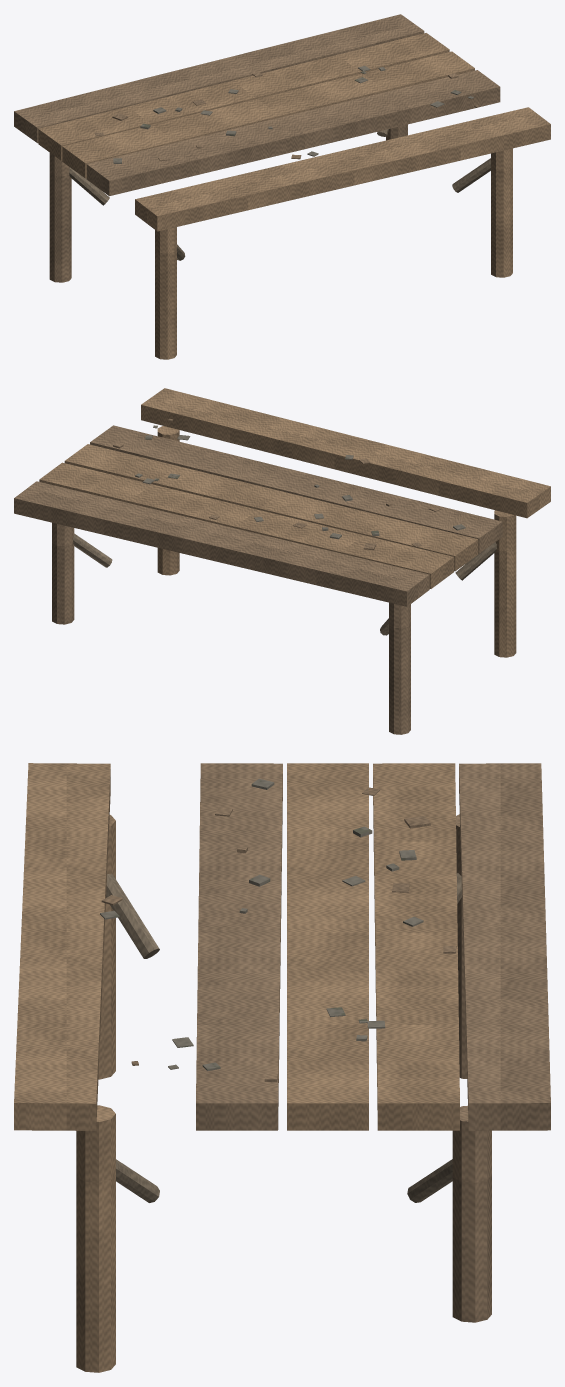
Rendered from splintered_dining_table.glb.
3 views of the same model, one above another, from view 1: azimuth 30°, elevation 25°; view 2: azimuth 150°, elevation 25°; view 3: azimuth 270°, elevation 25° (orthographic). The views are drawn at different scales.
Visible parts, largest first — view 1: InteriorPropGeometry; view 2: InteriorPropGeometry; view 3: InteriorPropGeometry.
Part boxes in pixels (x1=…): InteriorPropGeometry: x1=14, y1=14, x2=550, y2=359; InteriorPropGeometry: x1=14, y1=388, x2=550, y2=734; InteriorPropGeometry: x1=14, y1=763, x2=550, y2=1372.
Bounding box in the file's own units: 2.18 × 0.8671 × 1.46.
4 materials, 4 textured.
